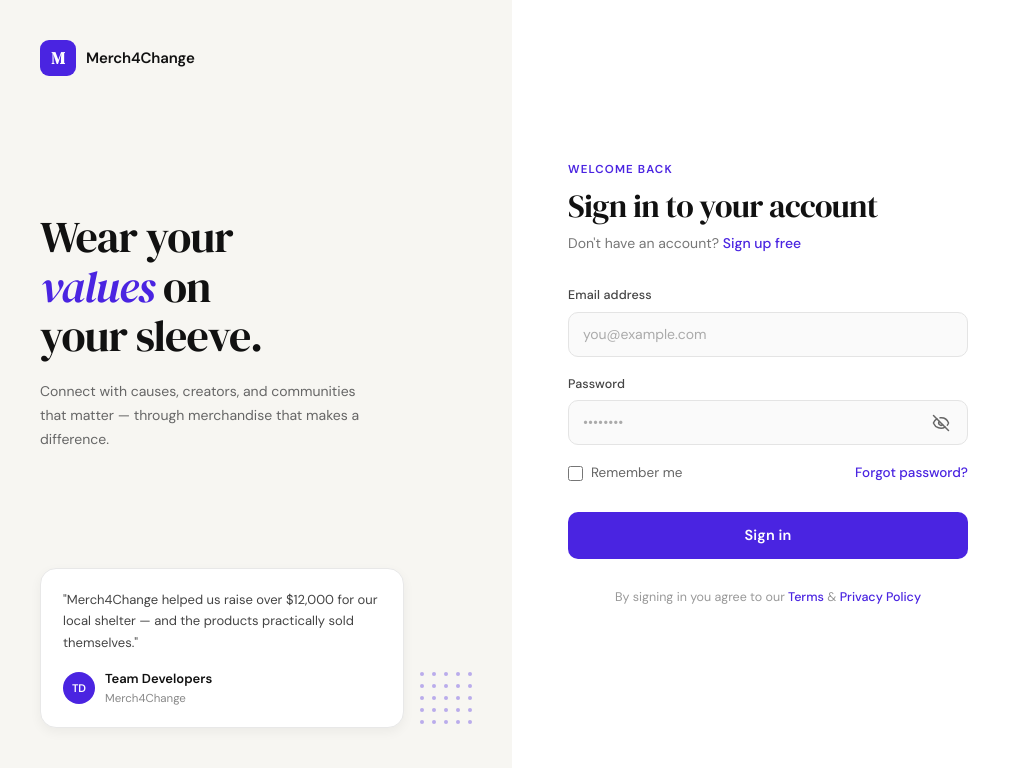
it: LoginPage › shows error message when submitting empty form
The image size is (1024, 768).
What coordinates should you click on to do the following:
click the button "Sign in"
I would click on:
 (768, 535)
Its box is top-left (568, 512), bottom-right (968, 559).
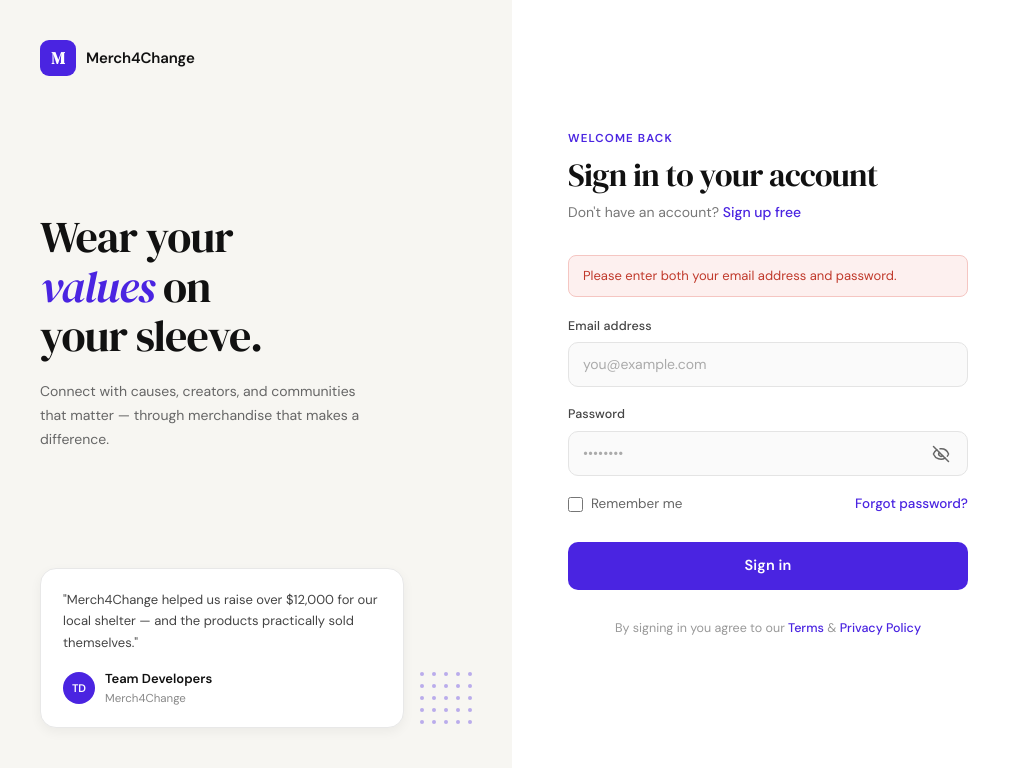
Expected: the text "Please enter both your email address and password." is shown, top-left (568, 255), bottom-right (968, 296)
